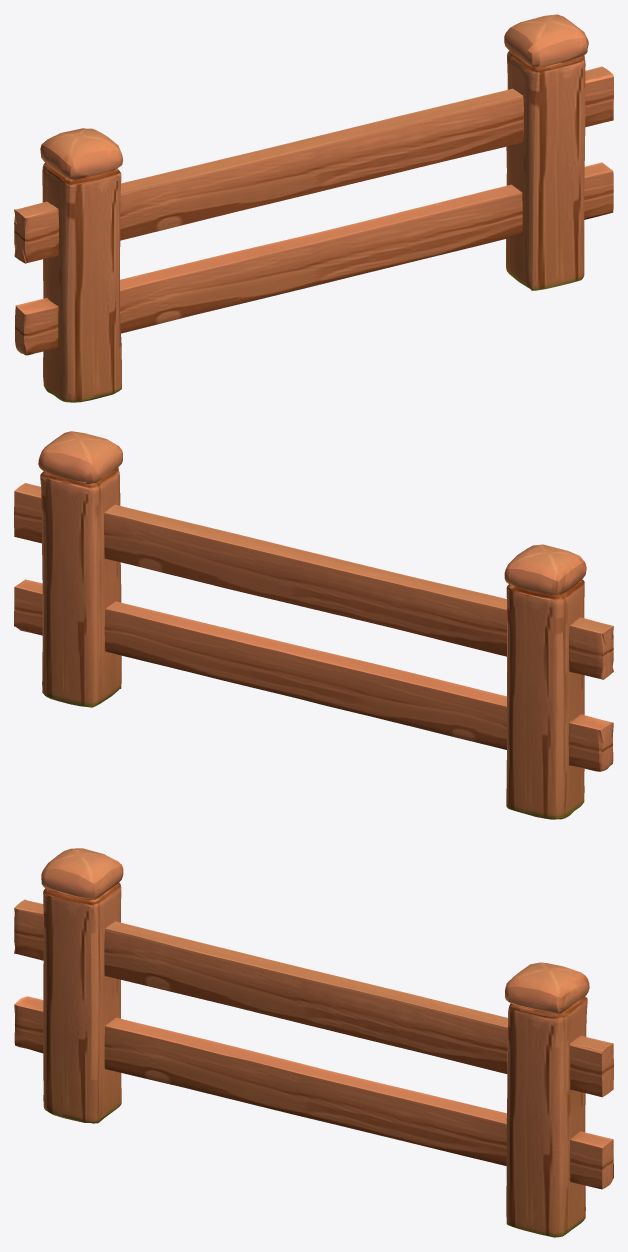
File: fence_rail_1.glb
3 renders of one model, top to bottom at view 1: azimuth 30°, elevation 25°; view 2: azimuth 150°, elevation 25°; view 3: azimuth 330°, elevation 25°, orthographic.
Visible parts, largest first — view 1: Mesh0; view 2: Mesh0; view 3: Mesh0.
Part boxes in pixels (x1,y1,x2,y2): Mesh0: (14, 14, 613, 402); Mesh0: (14, 431, 613, 819); Mesh0: (14, 848, 613, 1237).
Size of the model in its own units: 1 by 0.4142 by 0.0989.
Materials: 1 (1 with a texture image).
